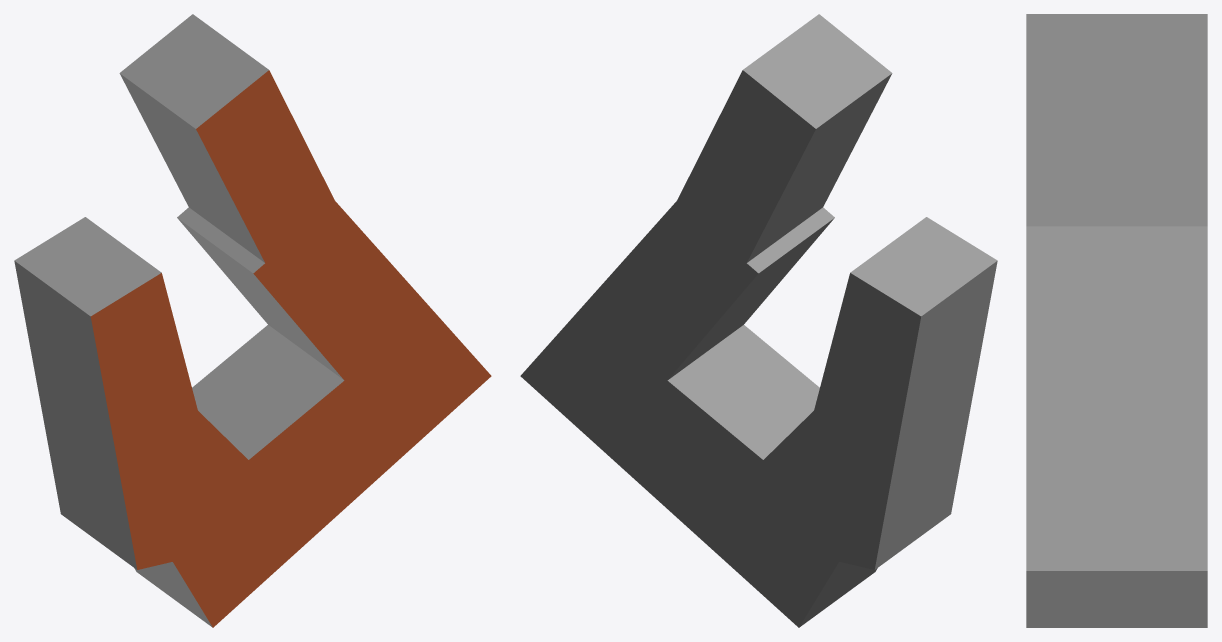
Rendered from construction_5267_assumed_A_Casa_h6m.obj.
The picture shows the model from 3 angles, left to right: view 1: azimuth 30°, elevation 25°; view 2: azimuth 150°, elevation 25°; view 3: azimuth 270°, elevation 25°; orthographic projection. The views are drawn at different scales.
Parts seen in each view (by area): view 1: construction_5267_assumed_A_Casa; view 2: construction_5267_assumed_A_Casa; view 3: construction_5267_assumed_A_Casa.
Part boxes in pixels (box(x1,y1,x2,y2)): construction_5267_assumed_A_Casa: box(14, 14, 491, 627); construction_5267_assumed_A_Casa: box(520, 14, 997, 627); construction_5267_assumed_A_Casa: box(1026, 14, 1207, 627).
Size of the model in its own units: 18.17 by 23.57 by 6.
